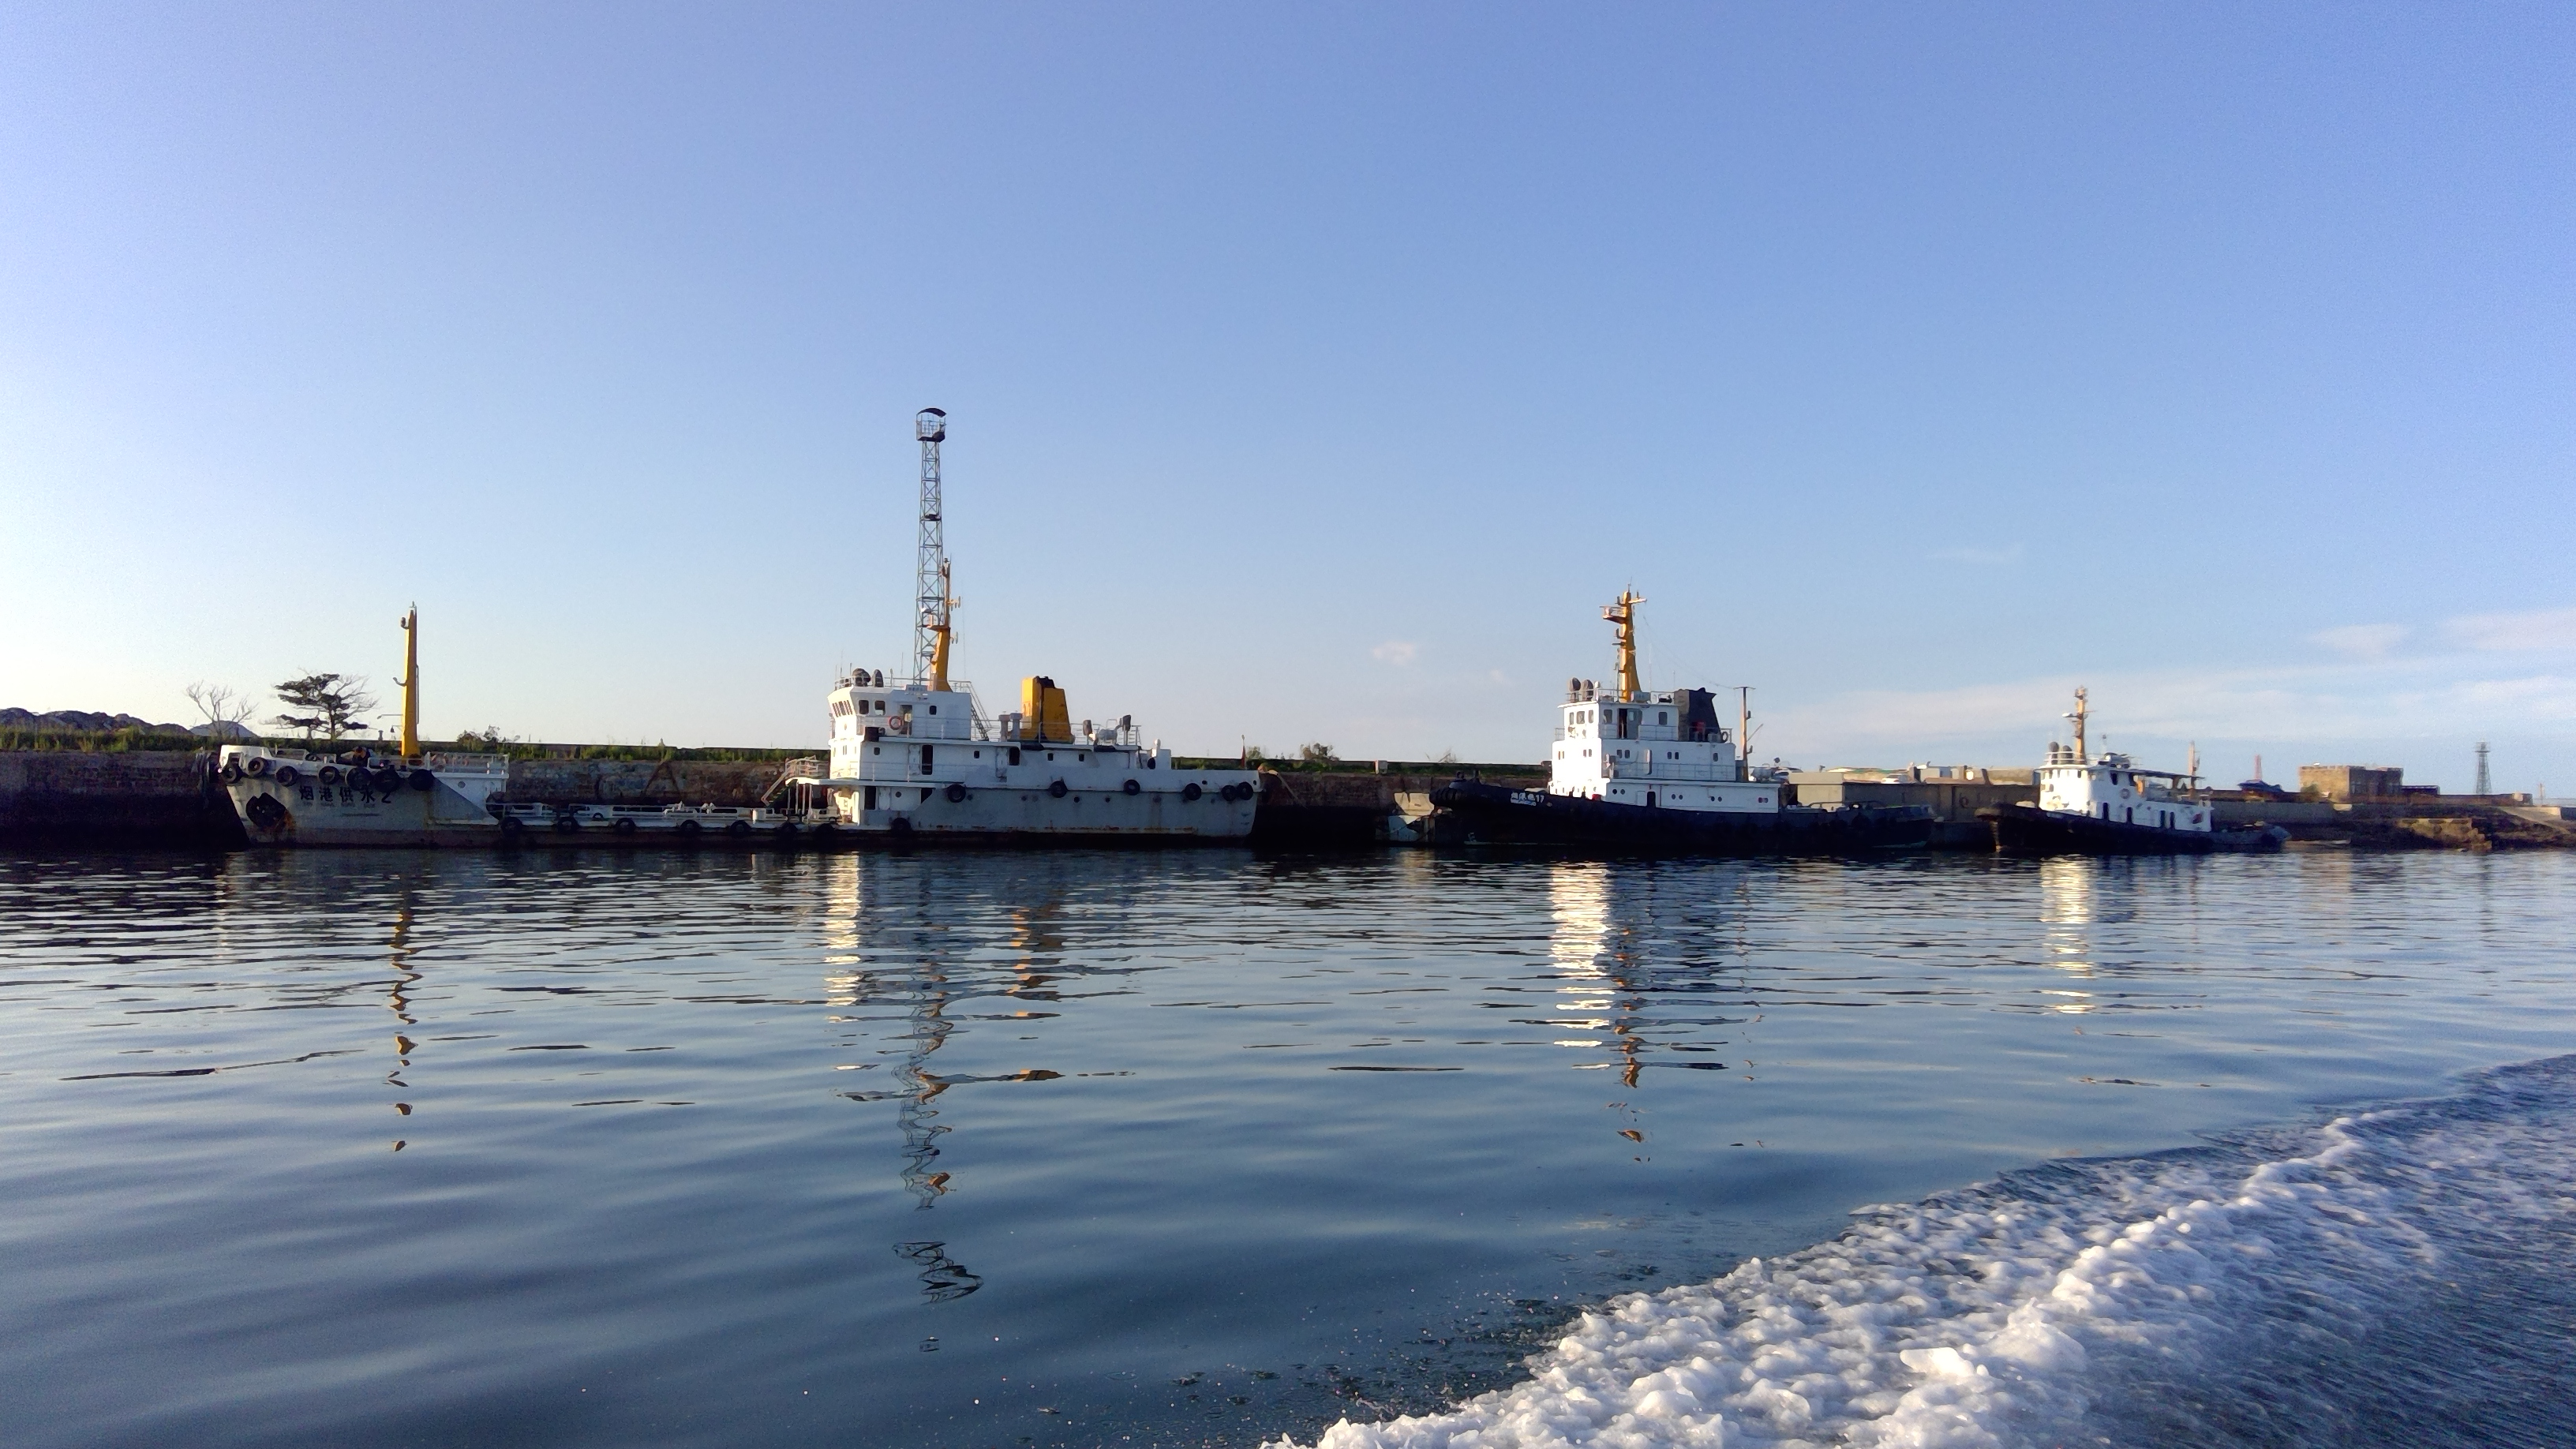ship: (736, 655, 1297, 867), (1430, 672, 1851, 872), (182, 738, 727, 876), (1928, 704, 2247, 879)
